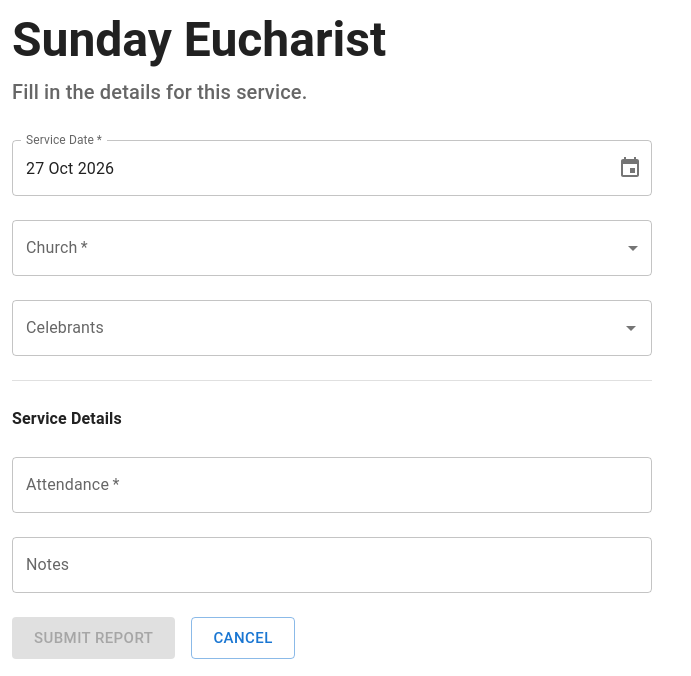
Scenario: ServiceSubmitPage › admin can see all churches
The width and height of the screenshot is (691, 676).
expect the heading "Sunday Eucharist" is shown: met, box [12,11,386,68]
Click the dropdown named "Church" at (332, 248), box [12,220,652,276]
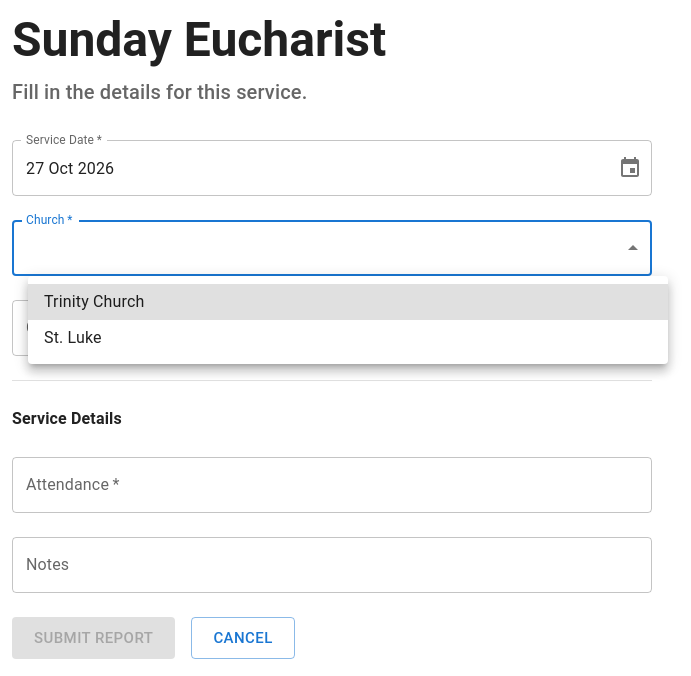
expect the option "Trinity Church" is shown: met, box [28,284,668,320]
expect the option "St. Luke" is shown: met, box [44,328,102,347]
